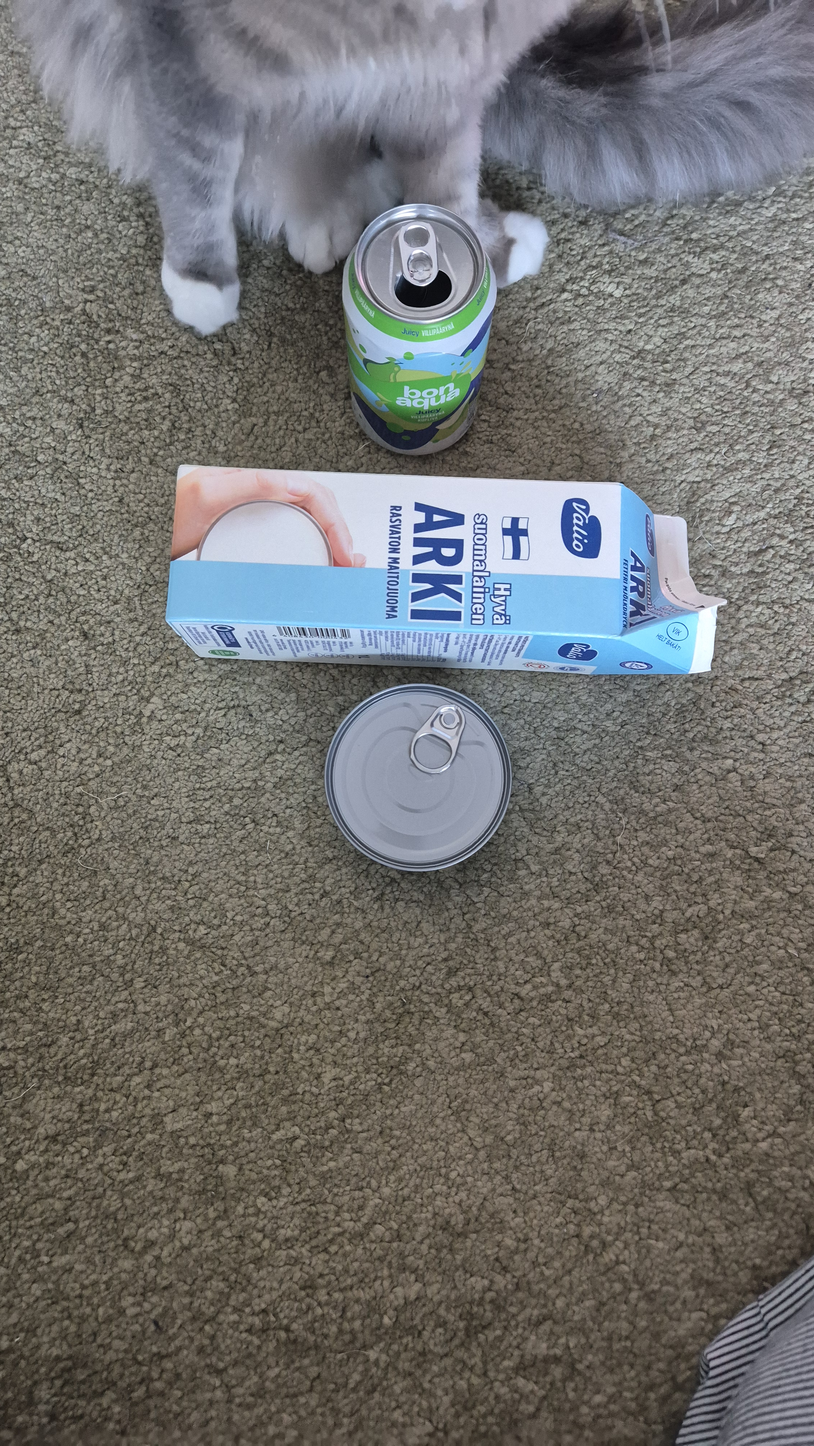Dryckeskartong: (165, 465, 727, 676)
Konservburk: (324, 684, 512, 871)
Pantburk: (341, 204, 497, 455)
